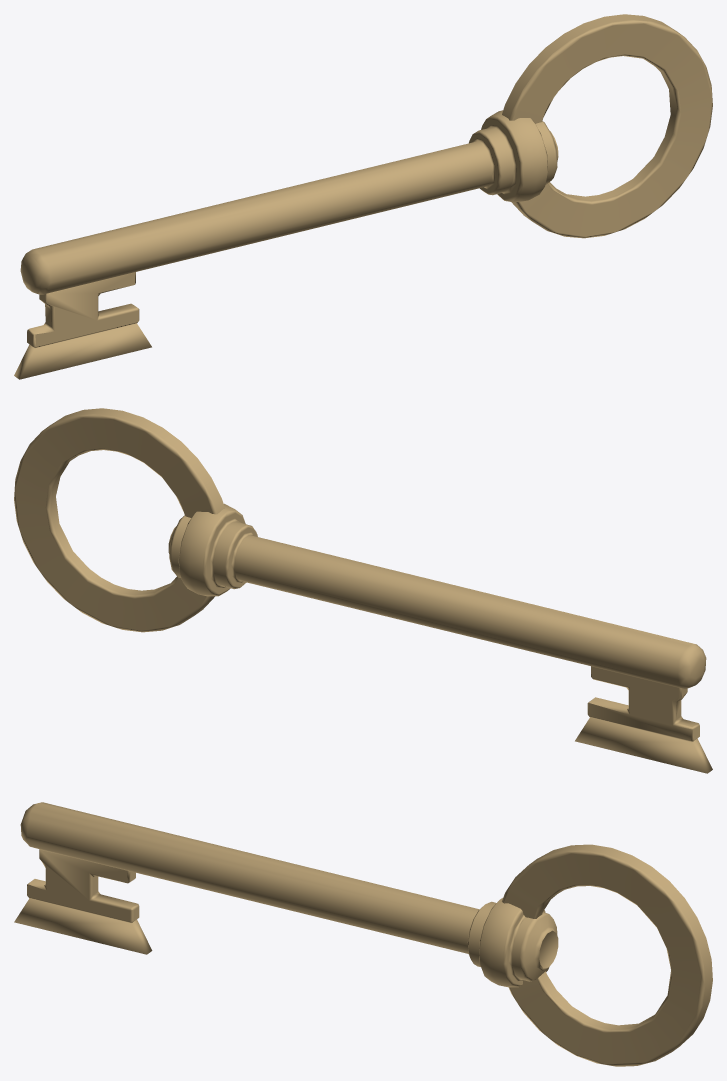
The model's file is Llave_Antigua_2.fbx.
The picture shows the model from 3 angles, top to bottom: view 1: azimuth 30°, elevation 25°; view 2: azimuth 150°, elevation 25°; view 3: azimuth 330°, elevation 25°; orthographic projection.
Parts seen in each view (by area): view 1: Llave_Antigua_2; view 2: Llave_Antigua_2; view 3: Llave_Antigua_2.
Part boxes in pixels (left/top/right/bottom): Llave_Antigua_2: left=14, top=14, right=712, bottom=379; Llave_Antigua_2: left=14, top=408, right=712, bottom=773; Llave_Antigua_2: left=14, top=802, right=712, bottom=1066.
Size of the model in its own units: 115 by 33.93 by 13.61.
